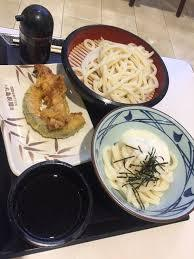pumpkin: (25, 88, 81, 138)
